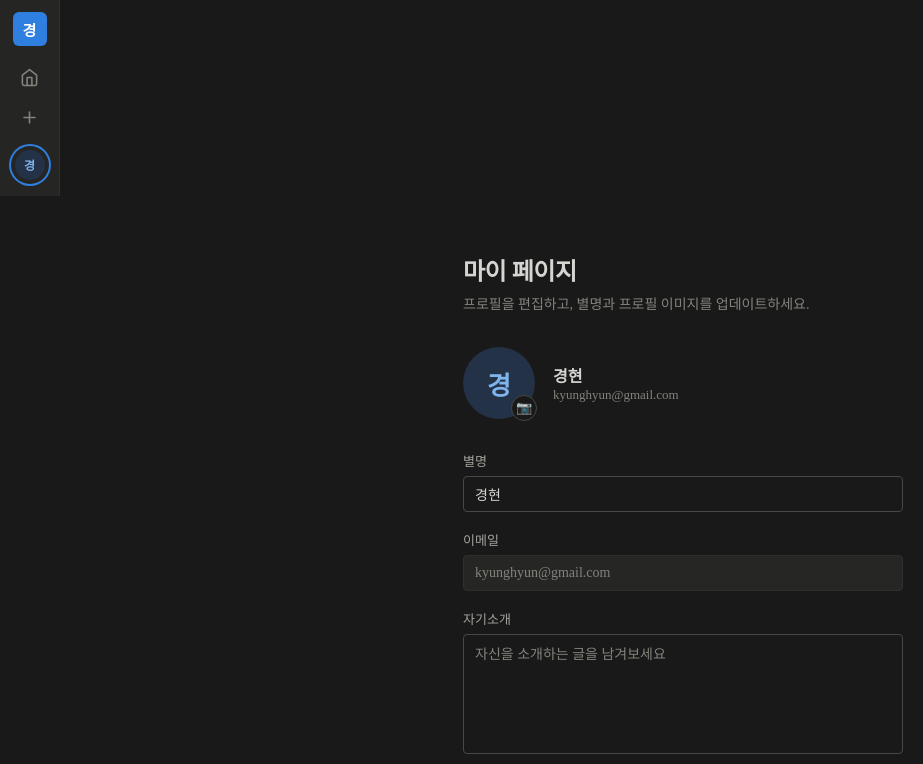
마이페이지 — 기존 기능 무회귀 (FR-009) › 별명 입력은 즉시 반영되고 localStorage에는 저장되지 않는다
This screenshot has width=923, height=764.
Replace the text in the 1st field with placeholder "별명" with "새별명" at x=683, y=494, box [463, 476, 903, 512]
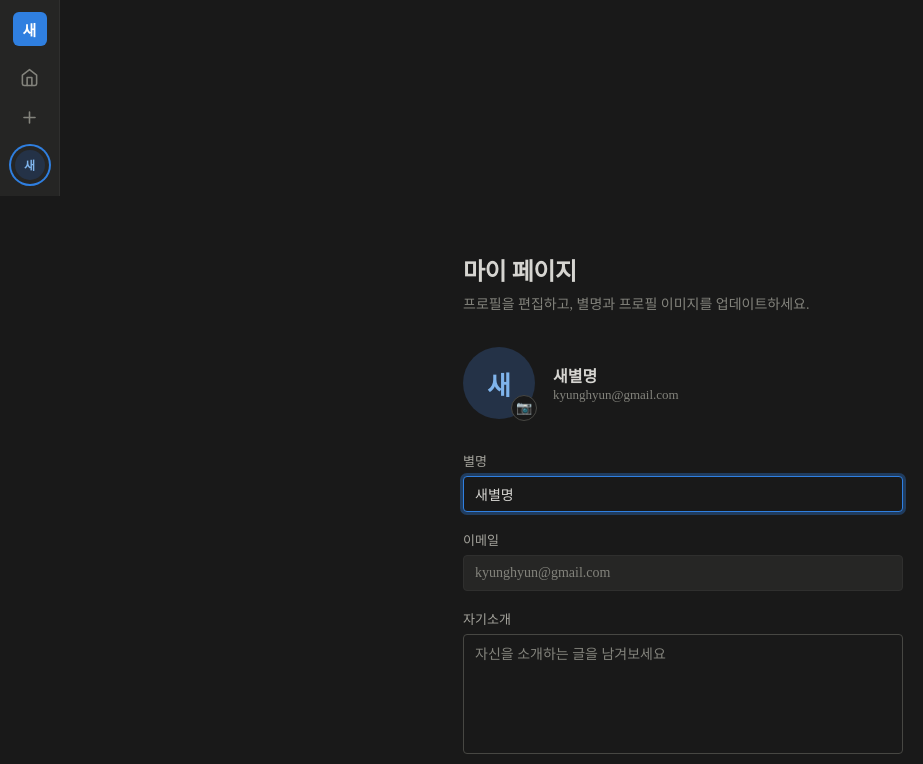
Expected: the text "새별명" is shown, [553, 368, 597, 385]
